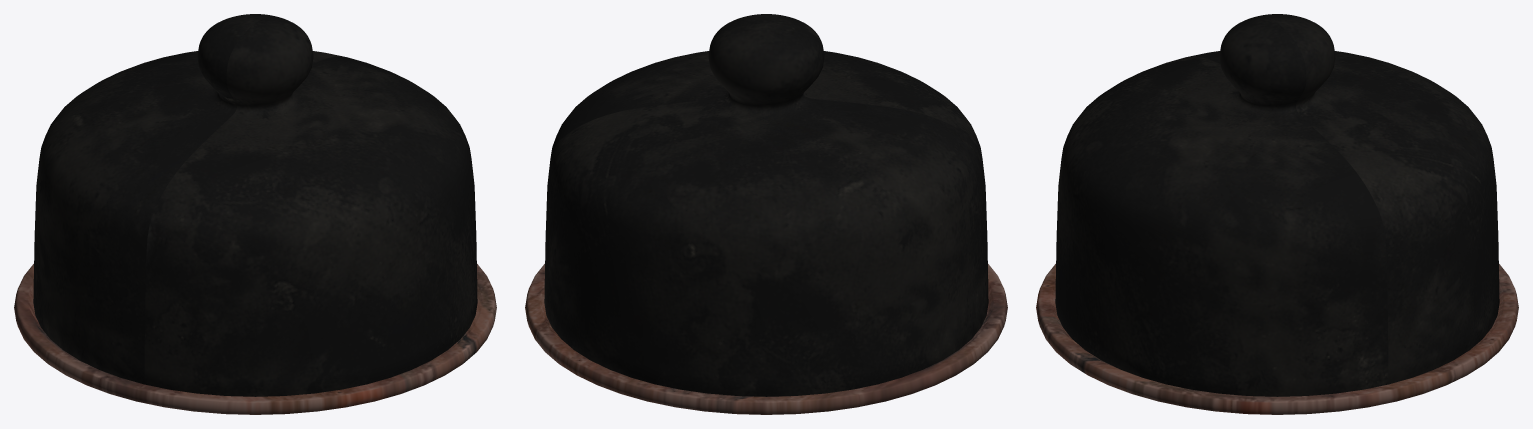
3 views of the same model, side by side, from view 1: azimuth 30°, elevation 25°; view 2: azimuth 150°, elevation 25°; view 3: azimuth 270°, elevation 25° (orthographic).
Parts seen in each view (by area): view 1: sauce; view 2: sauce; view 3: sauce.
Boxes of the visible parts, x1,y1,x2,y2 form: sauce: [14, 14, 496, 414]; sauce: [525, 14, 1007, 414]; sauce: [1036, 14, 1518, 414].
Size of the model in its own units: 205 by 137 by 205.
2 materials, 2 textured.
